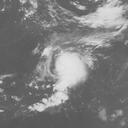cyclone: (52, 50, 89, 92)
